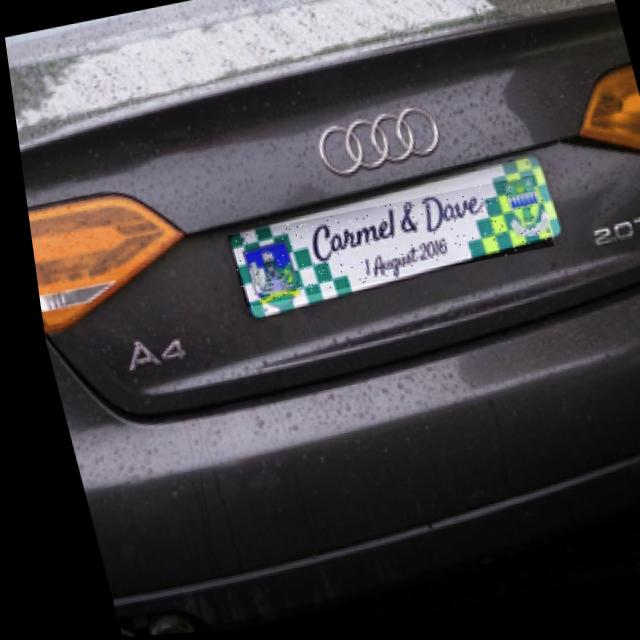license_plate: (217, 181, 550, 311)
